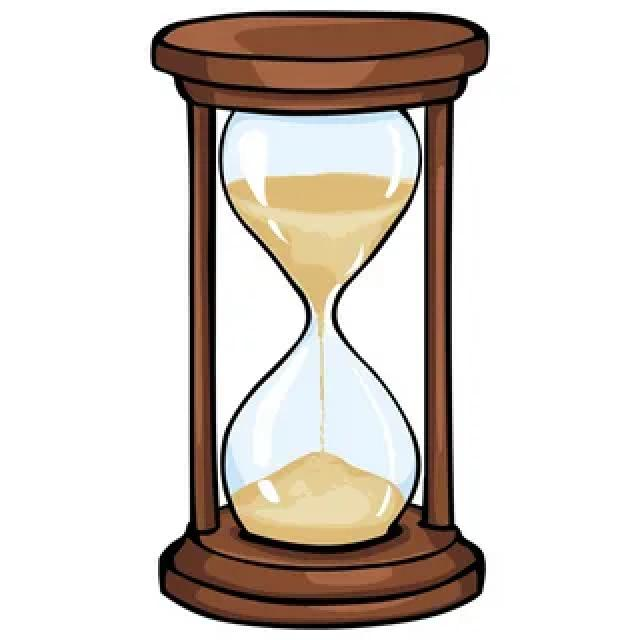clock: (147, 0, 500, 640)
